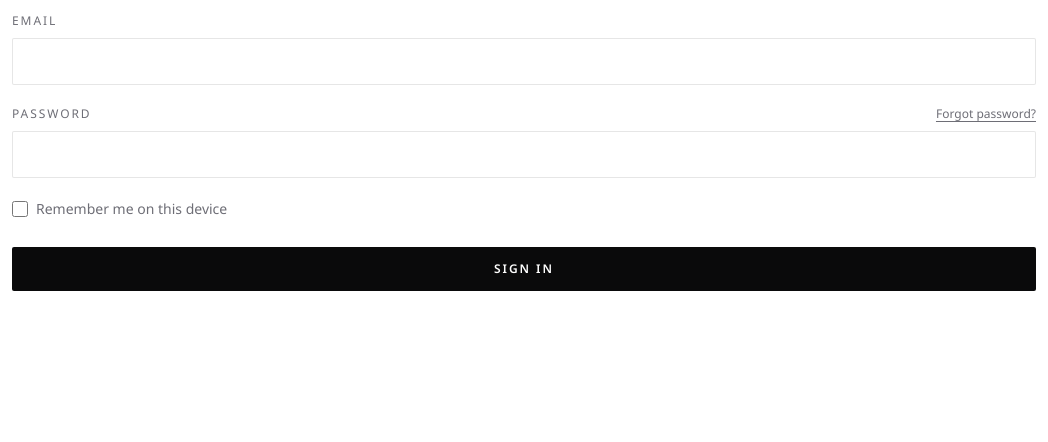
Scenario: LoginForm › offers to resend the verification email when login fails as unverified
This screenshot has width=1048, height=442.
Type "a@b.com" into the field labelled "Email" at (524,62), box [12,38,1036,85]
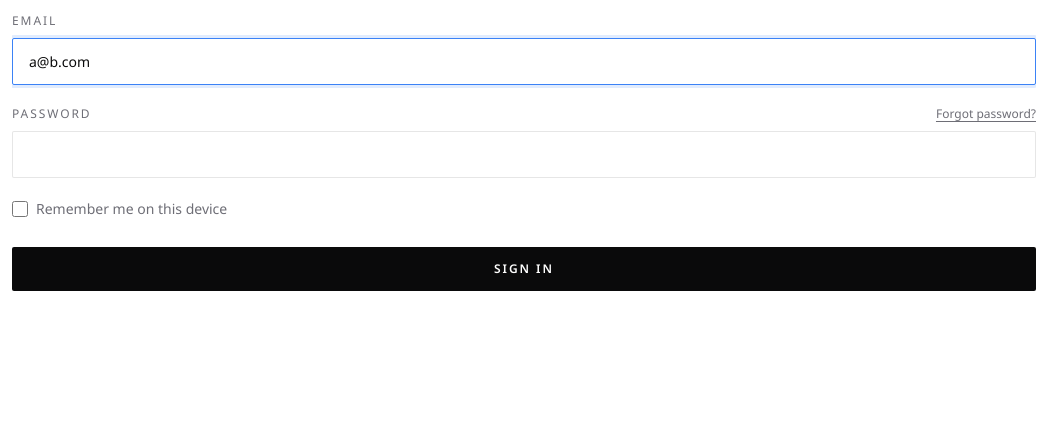
Type "password123" into the password field labelled "Password" at (524,154), box [12,131,1036,178]
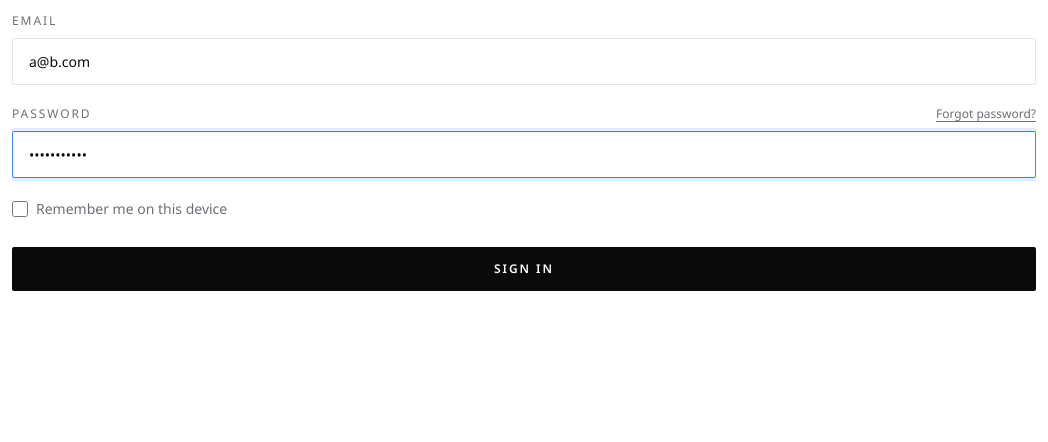
Click the button "Sign in" at (524,269), box [12,247,1036,291]
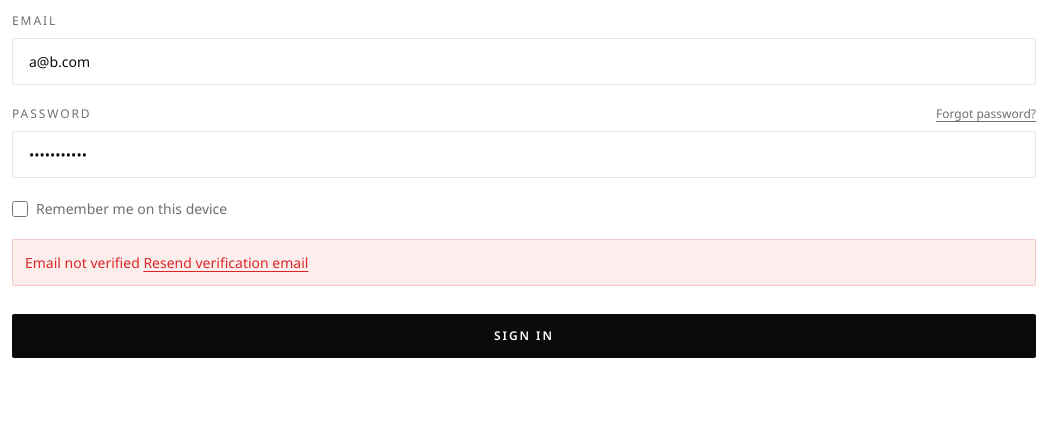
Click the button "Resend verification email" at (226,262), box [143,252,308,273]
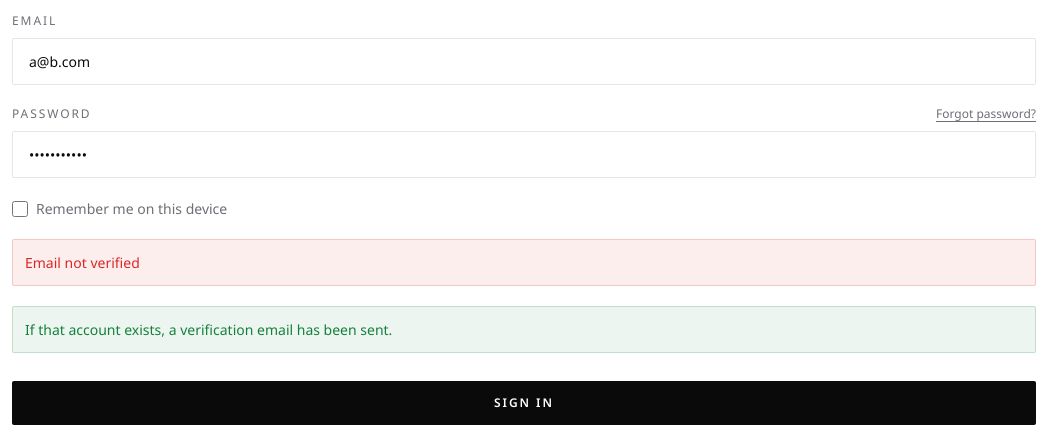
Expected: the text "If that account exists, a verification email has been sent." is shown, [12,306,1036,353]
